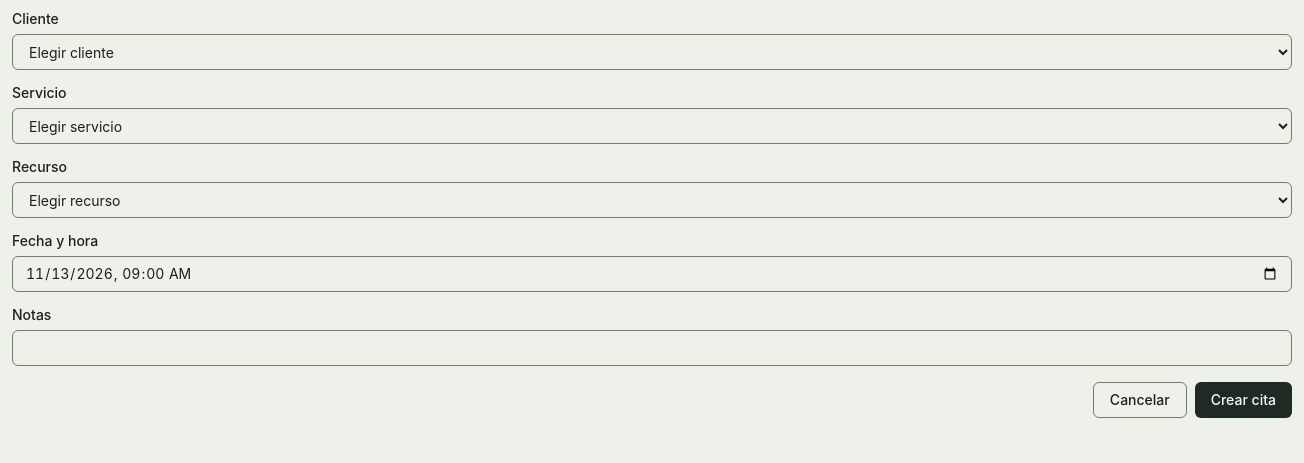
Test: AppointmentForm › rechaza minutos que no son múltiplo de 5
The width and height of the screenshot is (1304, 463).
Select "María González" in the dropdown labelled "Cliente": (652, 52) [12, 34, 1292, 70]
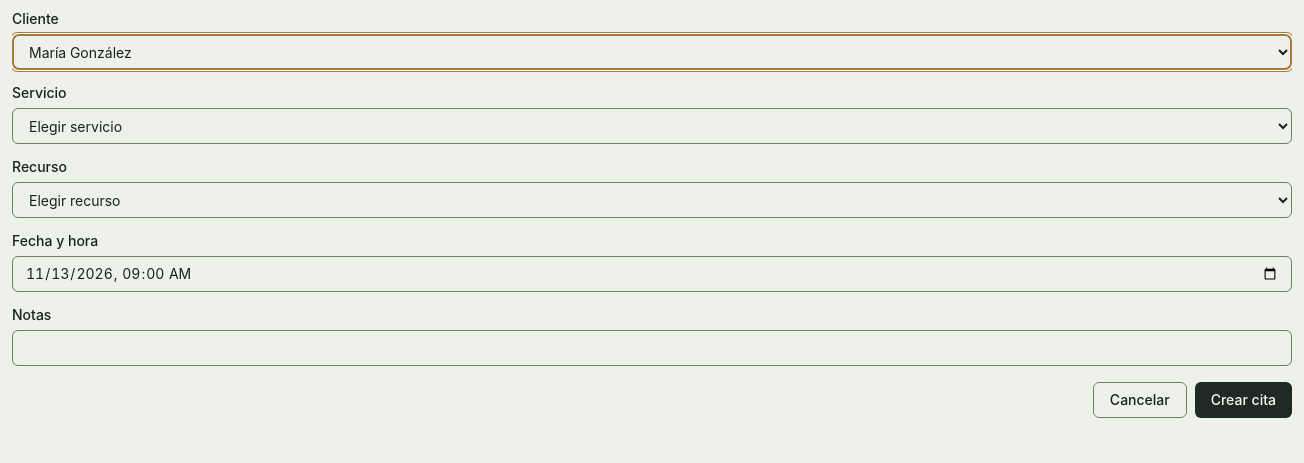
Select "Limpieza facial (ejemplo)" in the dropdown labelled "Servicio": (652, 126) [12, 108, 1292, 144]
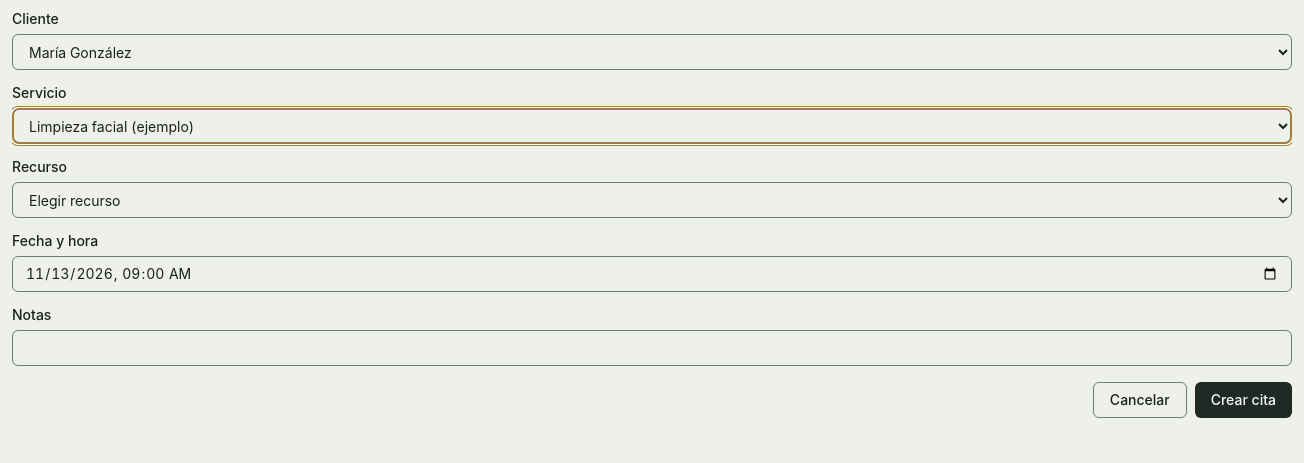
Select "Cabina 2" in the dropdown labelled "Recurso": (652, 200) [12, 182, 1292, 218]
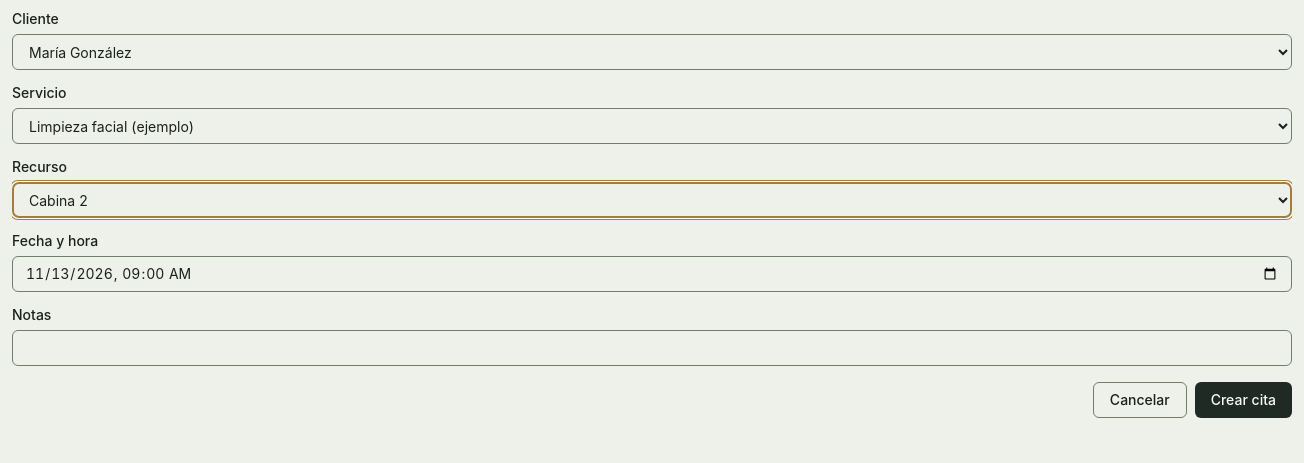
Replace the text in the field labelled "Fecha y hora" with "2026-11-13T09:03": (652, 274) [12, 256, 1292, 292]
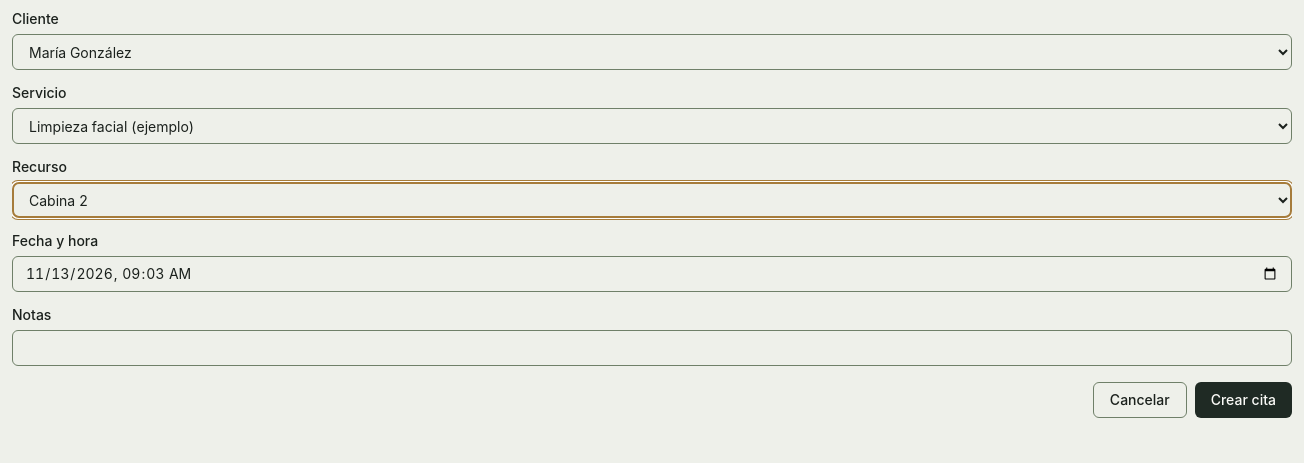
Click the button "Crear cita": (1243, 400) [1195, 382, 1292, 418]
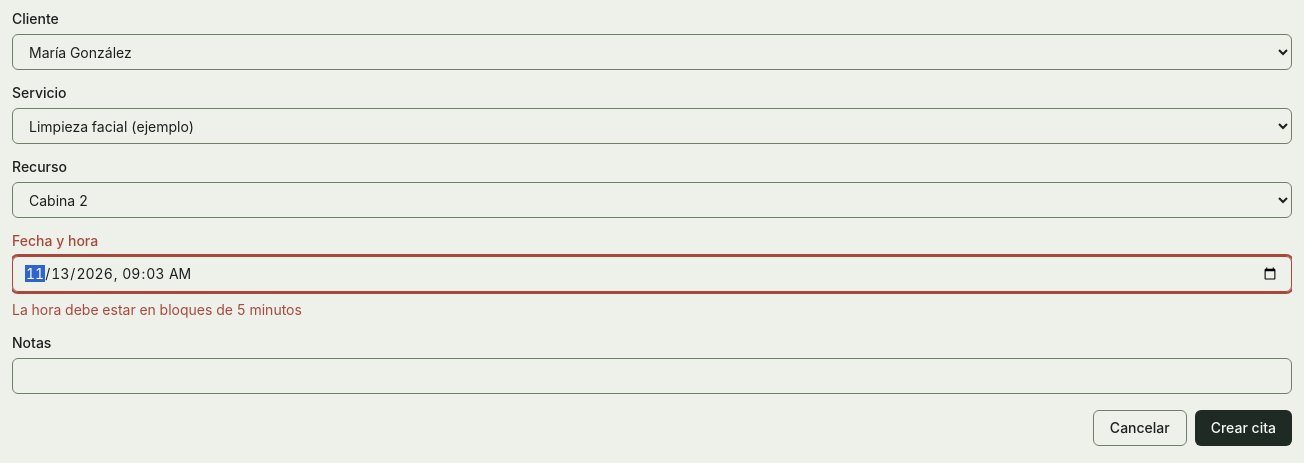
Expected: the text "La hora debe estar en bloques de 5 minutos" is shown, [12, 301, 302, 318]
